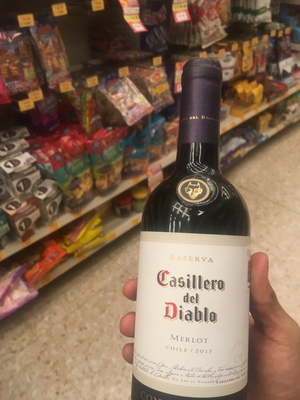casillero del diablo merlot: (127, 67, 251, 400)
